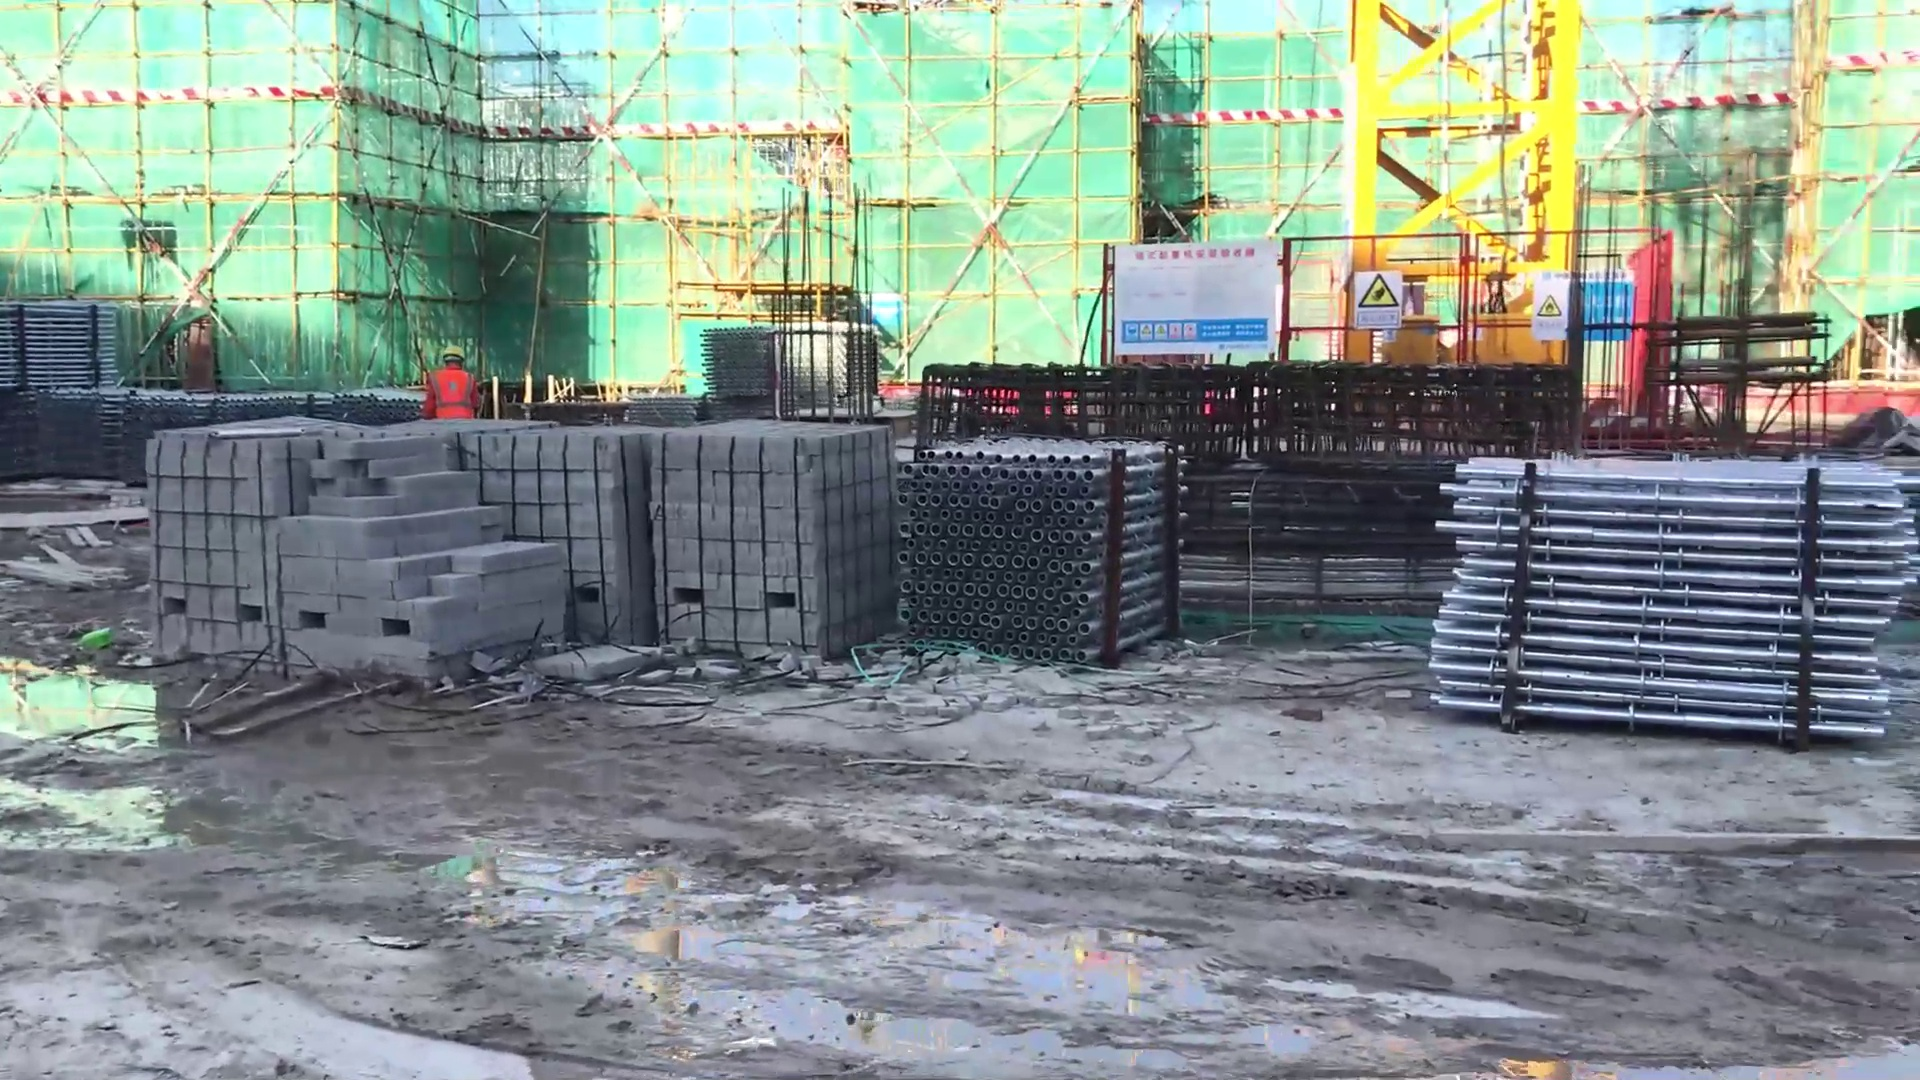brick: (132, 398, 570, 672), (636, 420, 882, 668)
fence: (1309, 216, 1669, 428)
helmet: (430, 341, 461, 374)
person: (419, 342, 474, 416)
scaffold: (1418, 418, 1896, 781), (885, 415, 1180, 693), (707, 318, 880, 406), (14, 300, 134, 397)
slogan: (1348, 269, 1410, 335), (1530, 293, 1566, 335), (1122, 321, 1196, 340)
vest: (428, 371, 471, 413)
